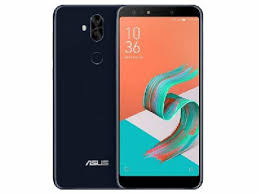asus: (111, 3, 209, 191), (49, 2, 116, 190)
